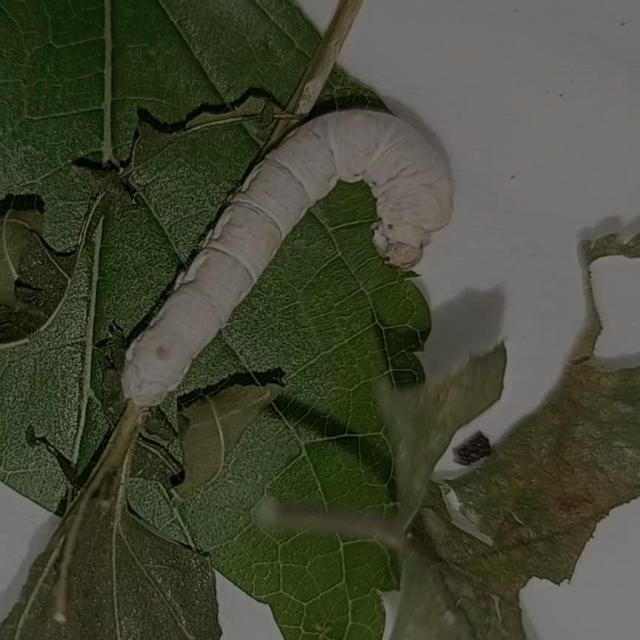Healthy: (108, 95, 460, 417)
